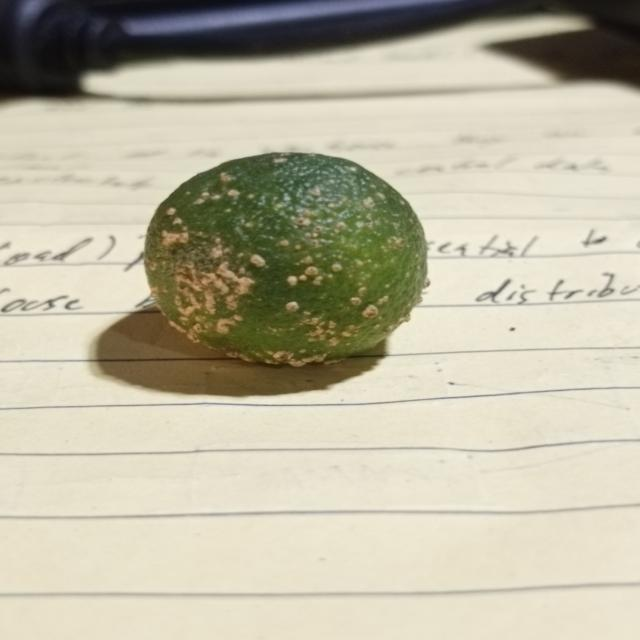scab: (138, 150, 438, 378)
